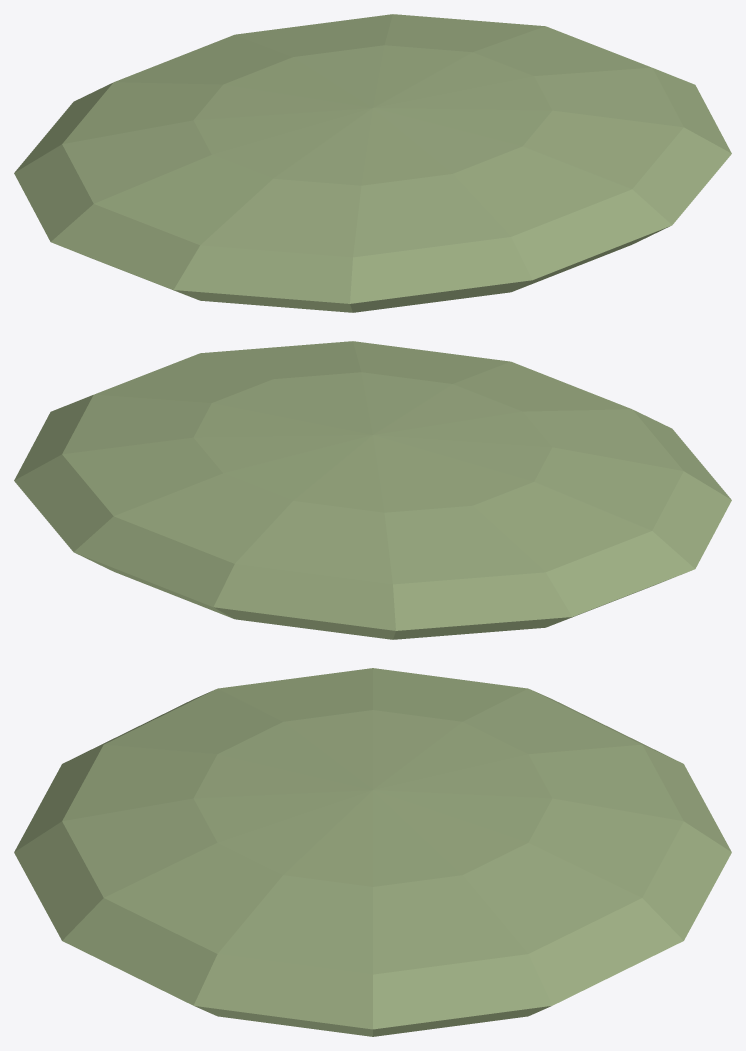
Rendered from hill.glb.
The picture shows the model from 3 angles, top to bottom: view 1: azimuth 30°, elevation 25°; view 2: azimuth 150°, elevation 25°; view 3: azimuth 270°, elevation 25°; orthographic projection. The views are drawn at different scales.
Visible parts, largest first — view 1: hill; view 2: hill; view 3: hill.
Boxes of the visible parts, box(x1,y1,x2,y2) form: hill: box(14, 14, 731, 312); hill: box(14, 341, 731, 639); hill: box(14, 668, 731, 1036).
Size of the model in its own units: 28 by 4.6 by 24.
